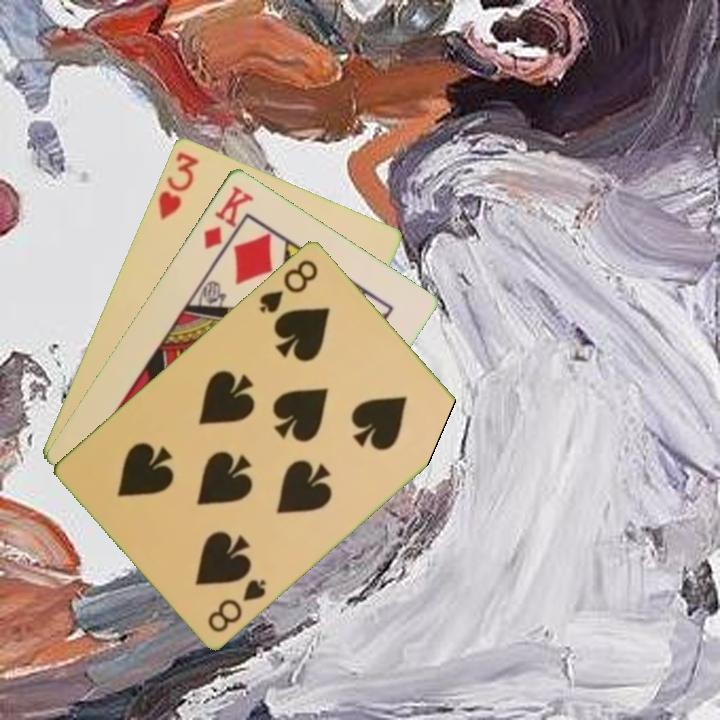3h: (154, 148, 202, 223)
8s: (255, 255, 322, 316), (204, 575, 270, 635)
Kd: (199, 181, 257, 252)
